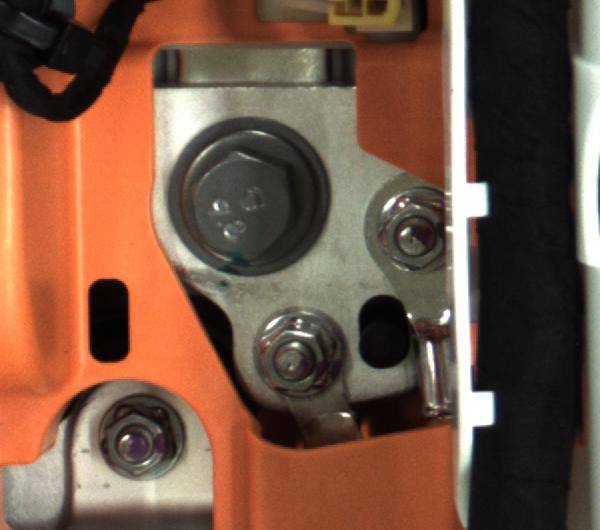screw_s: (243, 309, 340, 399), (89, 409, 180, 480), (377, 196, 454, 272)
